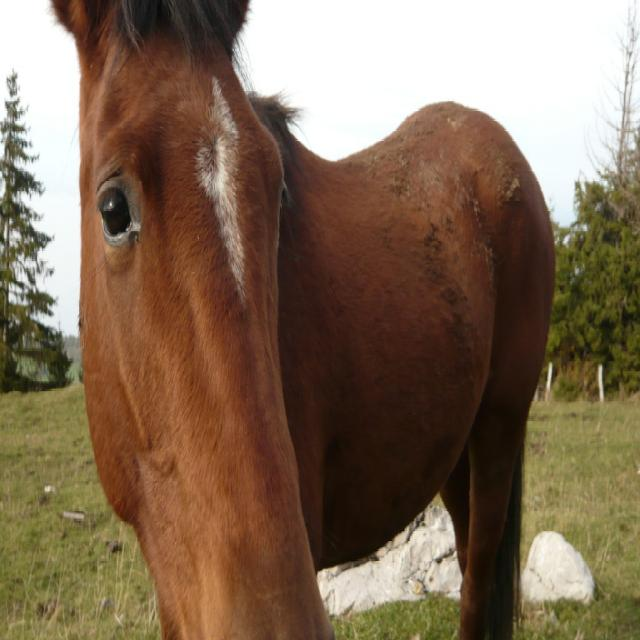Horse: (45, 0, 556, 640)
